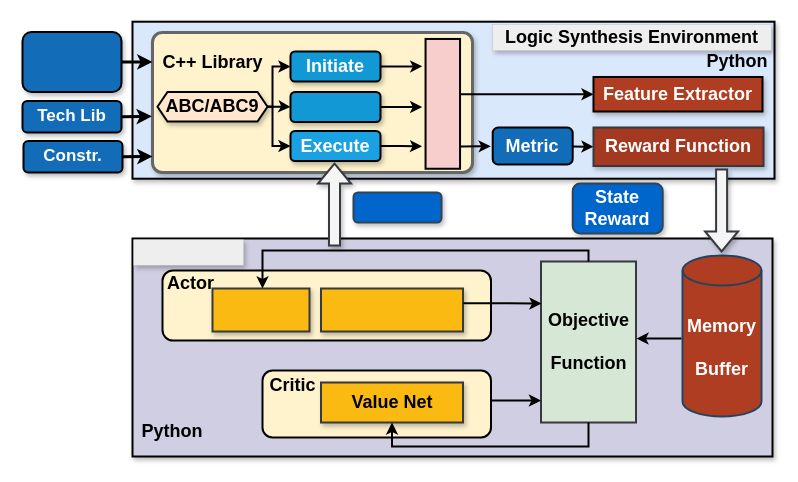
The diagram is 798 pixels wide and 482 high, and some of its shapes have lost their labels. The centre of each missing label's shape, as x and y in pixels:
Action: the point at 398,208
Boost.python: the point at 442,103
Gate- Level Verilog: the point at 72,63
Old Policy Net: the point at 393,311
Policy Net: the point at 261,311
RL Agent: the point at 189,253
Terminate: the point at 336,108
